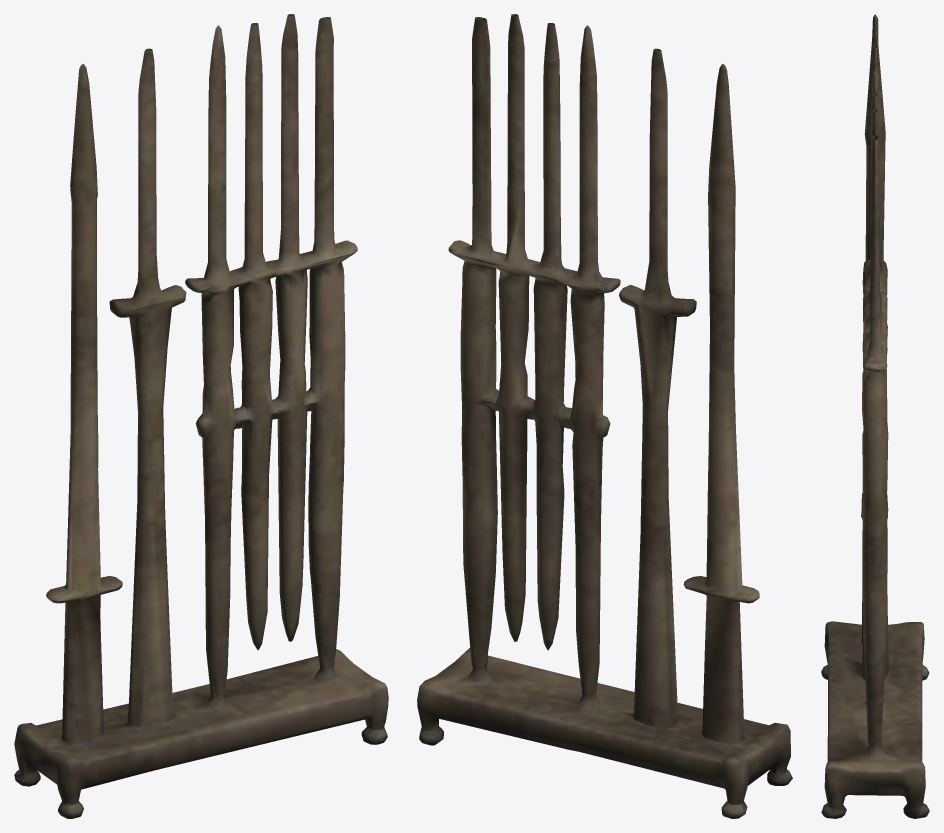
Rendered from plain-wood-weapon-rack-v002.glb.
The picture shows the model from 3 angles, left to right: view 1: azimuth 30°, elevation 25°; view 2: azimuth 150°, elevation 25°; view 3: azimuth 270°, elevation 25°; orthographic projection. The views are drawn at different scales.
Visible parts, largest first — view 1: plain-wood-weapon-rack; view 2: plain-wood-weapon-rack; view 3: plain-wood-weapon-rack.
Part boxes in pixels (x1,y1,x2,y2): plain-wood-weapon-rack: [14, 14, 388, 818]; plain-wood-weapon-rack: [417, 14, 792, 818]; plain-wood-weapon-rack: [821, 14, 929, 818].
Bounding box in the file's own units: 0.7995 × 1.7 × 0.2439.
1 material, 1 textured.
